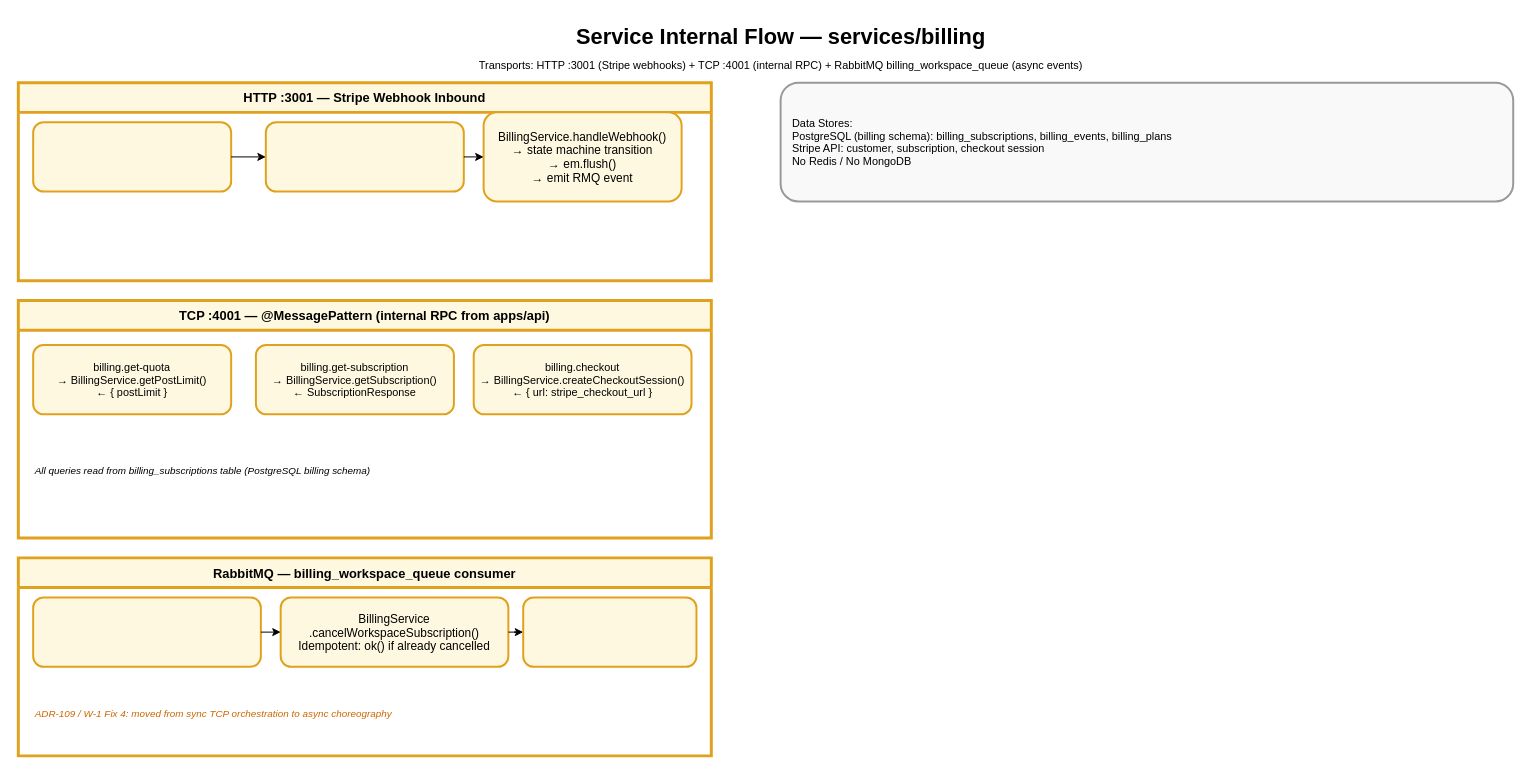
Some shapes in this 1532 by 774 pixel diagram are drawn without their labels. Here are the shapes that lost their labels. From the top down, the centre of each, then its label:
At point 132,156: "POST /webhooks/stripe BillingWebhookController".
At point 364,156: "Stripe.constructEvent() signature verify (rawBody)".
At point 146,631: "@EventPattern('workspace.deleted') WorkspaceDeletedConsumer".
At point 609,631: "em.flush() state → cancelled emit billing.subscription_cancelled".
